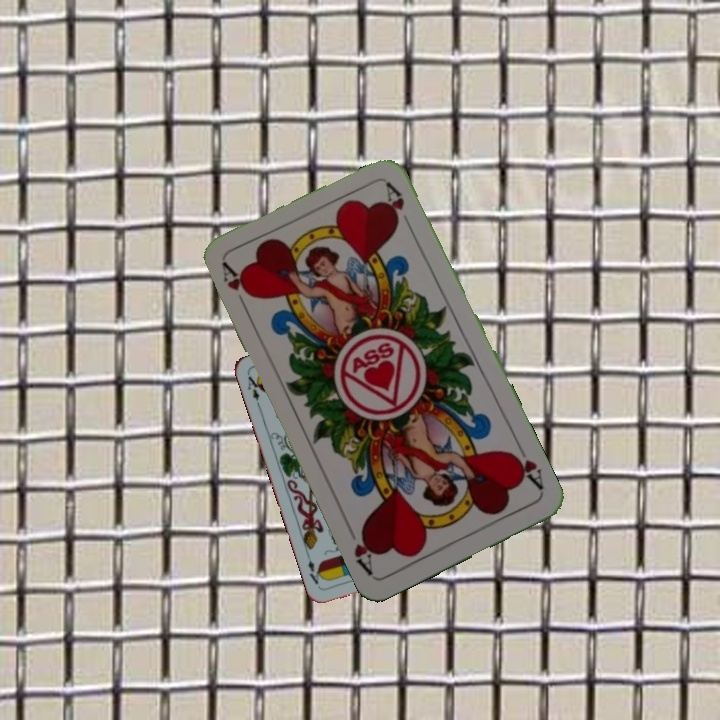EA: (243, 372, 265, 410)
HA: (217, 259, 255, 315), (505, 447, 547, 496)
